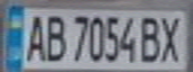0: (87, 11, 106, 63)
4: (118, 12, 142, 63)
5: (103, 12, 124, 63)
7: (66, 11, 90, 62)
A: (21, 10, 48, 63)
B: (136, 12, 163, 64), (42, 11, 69, 62)
X: (157, 12, 187, 63)
